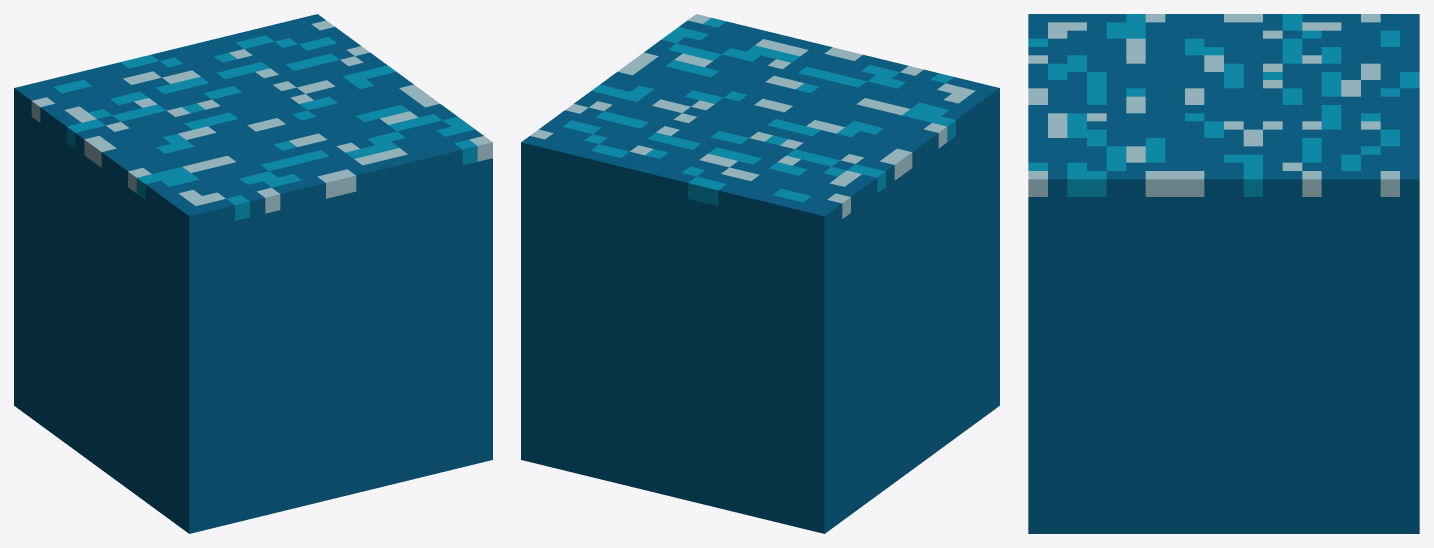
File: Water.obj
3 views of the same model, side by side, from view 1: azimuth 30°, elevation 25°; view 2: azimuth 150°, elevation 25°; view 3: azimuth 270°, elevation 25° (orthographic). The views are drawn at different scales.
Size of the model in its own units: 2 by 2 by 2.
1 material, 1 textured.
